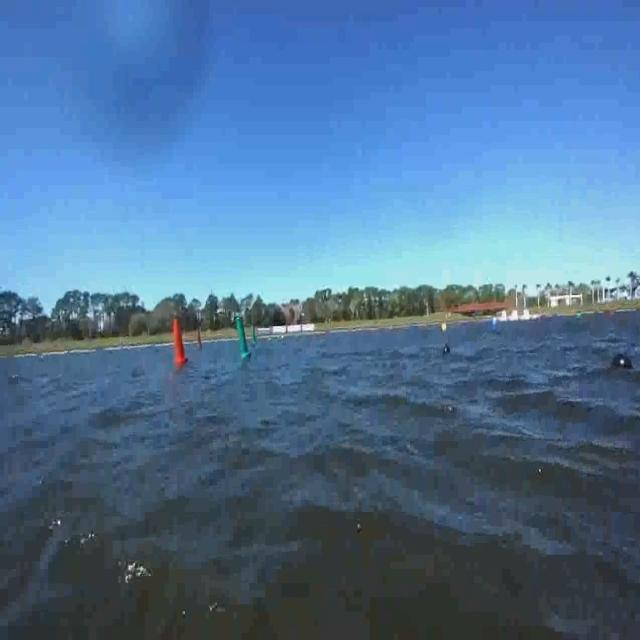black-buoy: (610, 353, 635, 370)
green-column-buoy: (233, 317, 250, 361), (251, 326, 257, 340)
red-column-buoy: (174, 319, 190, 367), (198, 332, 204, 351)
yellow-buoy: (16, 390, 25, 406), (442, 321, 449, 334)
